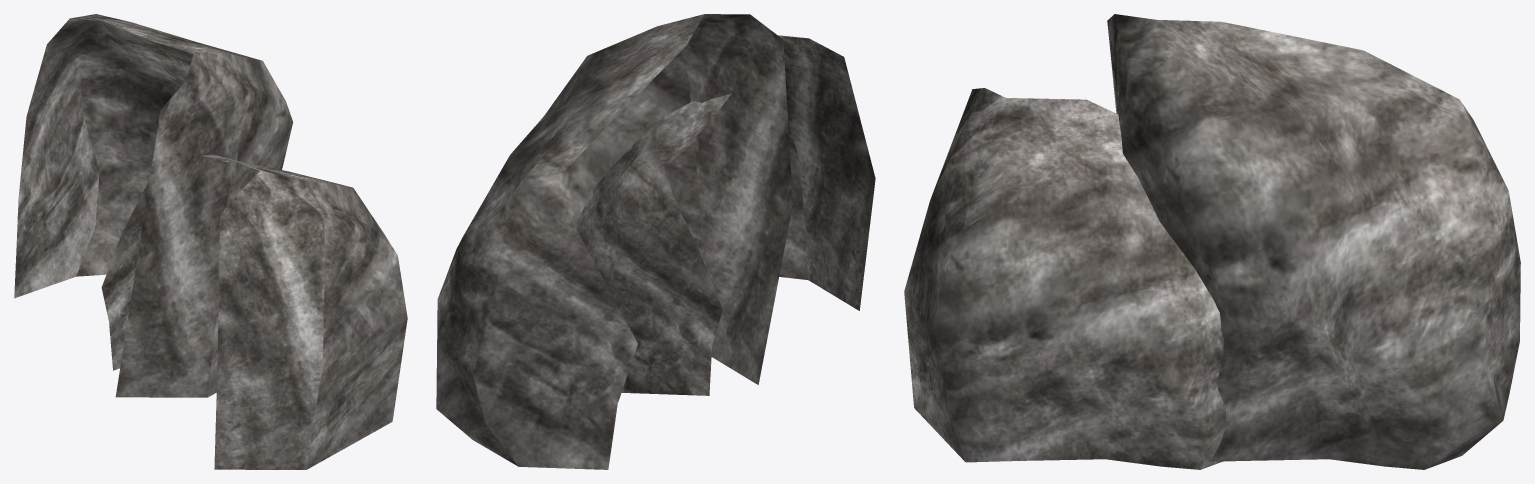
File: wall_rock_small.fbx
3 views of the same model, side by side, from view 1: azimuth 30°, elevation 25°; view 2: azimuth 150°, elevation 25°; view 3: azimuth 270°, elevation 25° (orthographic). The views are drawn at different scales.
Parts seen in each view (by area): view 1: wall_rock2_S; view 2: wall_rock2_S; view 3: wall_rock2_S.
Part boxes in pixels (left/top/right/bottom): wall_rock2_S: left=14, top=14, right=407, bottom=469; wall_rock2_S: left=436, top=14, right=875, bottom=469; wall_rock2_S: left=904, top=14, right=1520, bottom=469.
Size of the model in its own units: 4.63 by 6.72 by 9.73.
